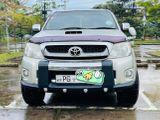car: (20, 8, 140, 111)
